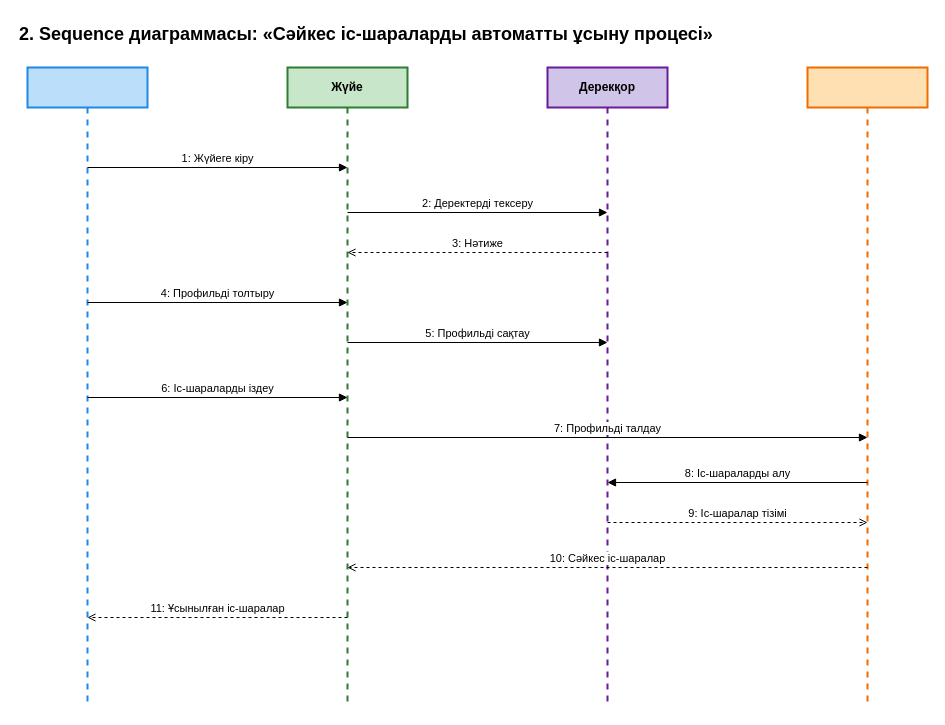
Image size: 945x725. Some labels were removed from this diagram. Here are the shapes that lost their labels. From the top down, the box of each, then its label:
(26, 66, 148, 708): Волонтер
(806, 66, 928, 708): Ұсыныс модулі
